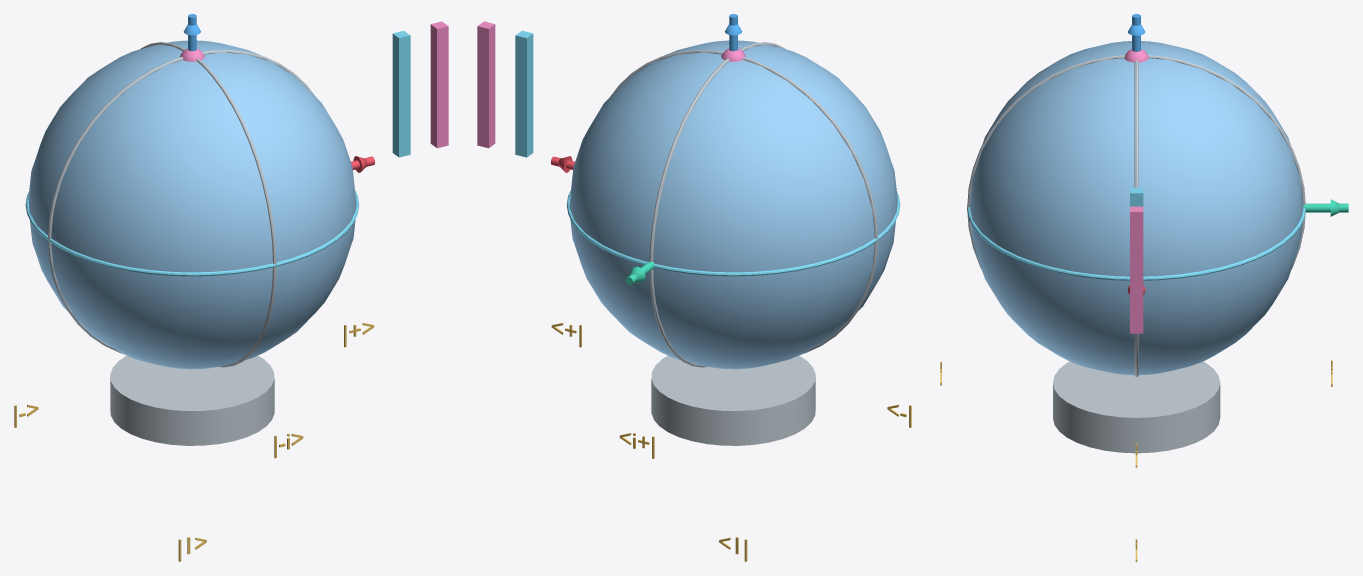
The model's file is bloch_sphere.glb.
The picture shows the model from 3 angles, left to right: view 1: azimuth 30°, elevation 25°; view 2: azimuth 150°, elevation 25°; view 3: azimuth 270°, elevation 25°; orthographic projection.
Visible parts, largest first — view 1: sphere-shell, pedestal, meridian-rings, probability-gauge-0, probability-gauge-1, equator-ring, pole-labels, axes; view 2: sphere-shell, pedestal, meridian-rings, probability-gauge-0, probability-gauge-1, equator-ring, axes, pole-labels; view 3: sphere-shell, pedestal, meridian-rings, probability-gauge-1, equator-ring, axes.
Boxes of the visible parts, bbox=[...] form: sphere-shell: bbox=[28, 40, 356, 369]; pedestal: bbox=[110, 355, 274, 445]; meridian-rings: bbox=[48, 42, 315, 367]; probability-gauge-0: bbox=[392, 30, 410, 157]; probability-gauge-1: bbox=[430, 21, 448, 148]; equator-ring: bbox=[25, 190, 359, 276]; pole-labels: bbox=[14, 323, 374, 561]; axes: bbox=[183, 14, 375, 172]; sphere-shell: bbox=[569, 40, 897, 369]; pedestal: bbox=[651, 355, 815, 445]; meridian-rings: bbox=[610, 42, 877, 367]; probability-gauge-0: bbox=[515, 30, 533, 157]; probability-gauge-1: bbox=[477, 21, 495, 148]; equator-ring: bbox=[566, 190, 900, 276]; axes: bbox=[550, 14, 742, 284]; pole-labels: bbox=[551, 323, 911, 561]; sphere-shell: bbox=[969, 41, 1303, 375]; pedestal: bbox=[1053, 361, 1220, 453]; meridian-rings: bbox=[967, 55, 1305, 377]; probability-gauge-1: bbox=[1130, 206, 1143, 333]; equator-ring: bbox=[967, 207, 1305, 280]; axes: bbox=[1127, 14, 1348, 294].
Size of the model in its own units: 0.4528 by 0.5455 by 0.3658.
